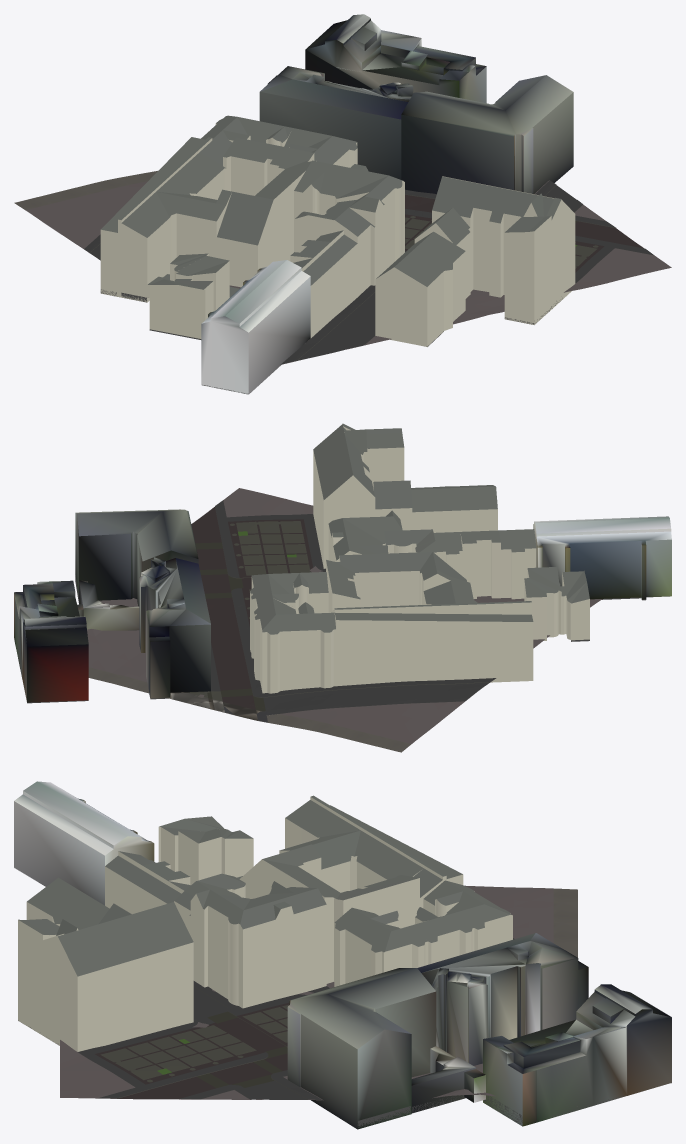
3 renders of one model, top to bottom at view 1: azimuth 30°, elevation 25°; view 2: azimuth 150°, elevation 25°; view 3: azimuth 270°, elevation 25°, orthographic. The views are drawn at different scales.
Parts seen in each view (by area): view 1: c_m06_p06; view 2: c_m06_p06; view 3: c_m06_p06.
Boxes of the visible parts, x1=… form: c_m06_p06: x1=14, y1=14, x2=671, y2=394; c_m06_p06: x1=14, y1=423, x2=671, y2=752; c_m06_p06: x1=14, y1=781, x2=671, y2=1129.
Bounding box in the file's own units: 157 × 32.97 × 163.
